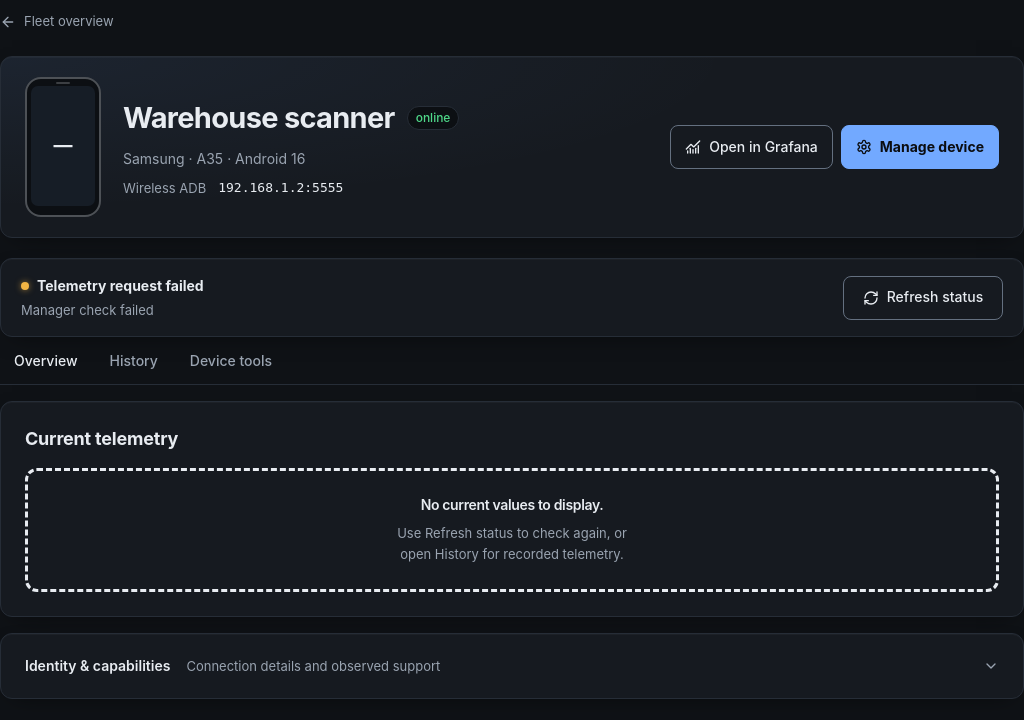
Scenario: device workspace › recovers a metrics request failure through Refresh status
Expected: the text "Telemetry request failed" is shown, [37,275,204,296]
Click the button "Refresh status".
click(923, 298)  # box [843,276,1003,320]
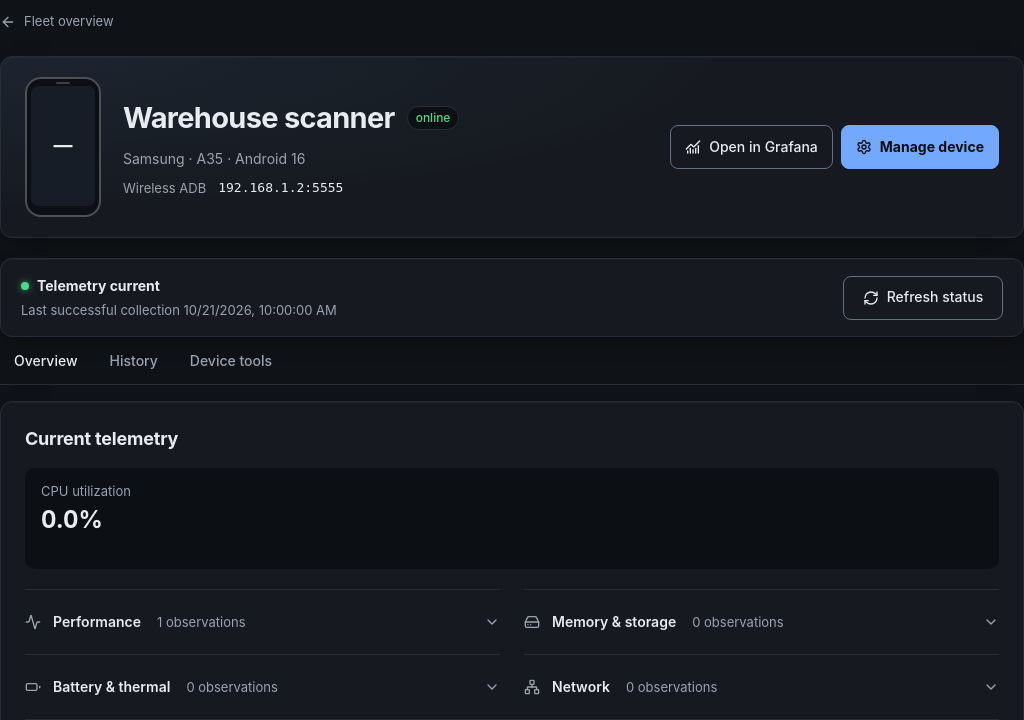
Expected: the text "Telemetry current" is shown, [37,275,160,296]
